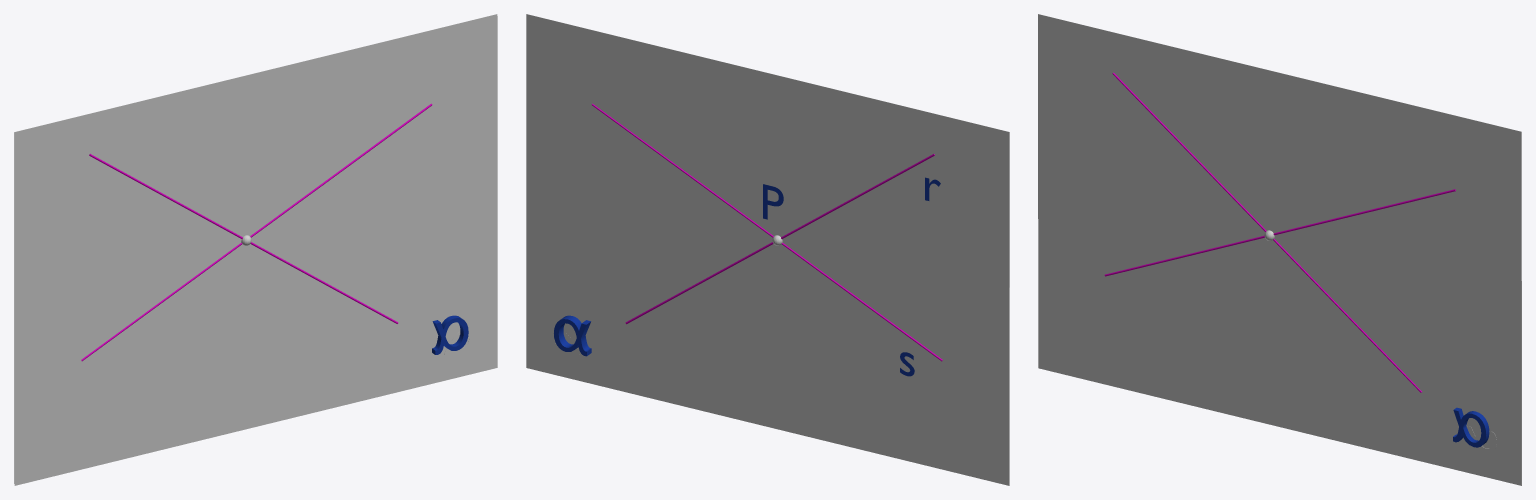
File: ob1.2_concorrentes.glb
3 views of the same model, side by side, from view 1: azimuth 30°, elevation 25°; view 2: azimuth 150°, elevation 25°; view 3: azimuth 330°, elevation 25° (orthographic).
Parts seen in each view (by area): view 1: mesh_id12, mesh_id13, mesh_id48; view 2: mesh_id12, mesh_id13, mesh_id48; view 3: mesh_id12, mesh_id13, mesh_id48.
Boxes of the visible parts, x1,y1,x2,y2 form: mesh_id12: [14, 14, 497, 485]; mesh_id13: [81, 103, 432, 361]; mesh_id48: [432, 315, 468, 354]; mesh_id12: [526, 14, 1009, 485]; mesh_id13: [592, 103, 942, 361]; mesh_id48: [554, 315, 591, 356]; mesh_id12: [1038, 14, 1521, 485]; mesh_id13: [1104, 72, 1455, 392]; mesh_id48: [1453, 407, 1489, 447].
Size of the model in its own units: 0.512 by 0.3585 by 0.015.
6 materials, 6 textured.
